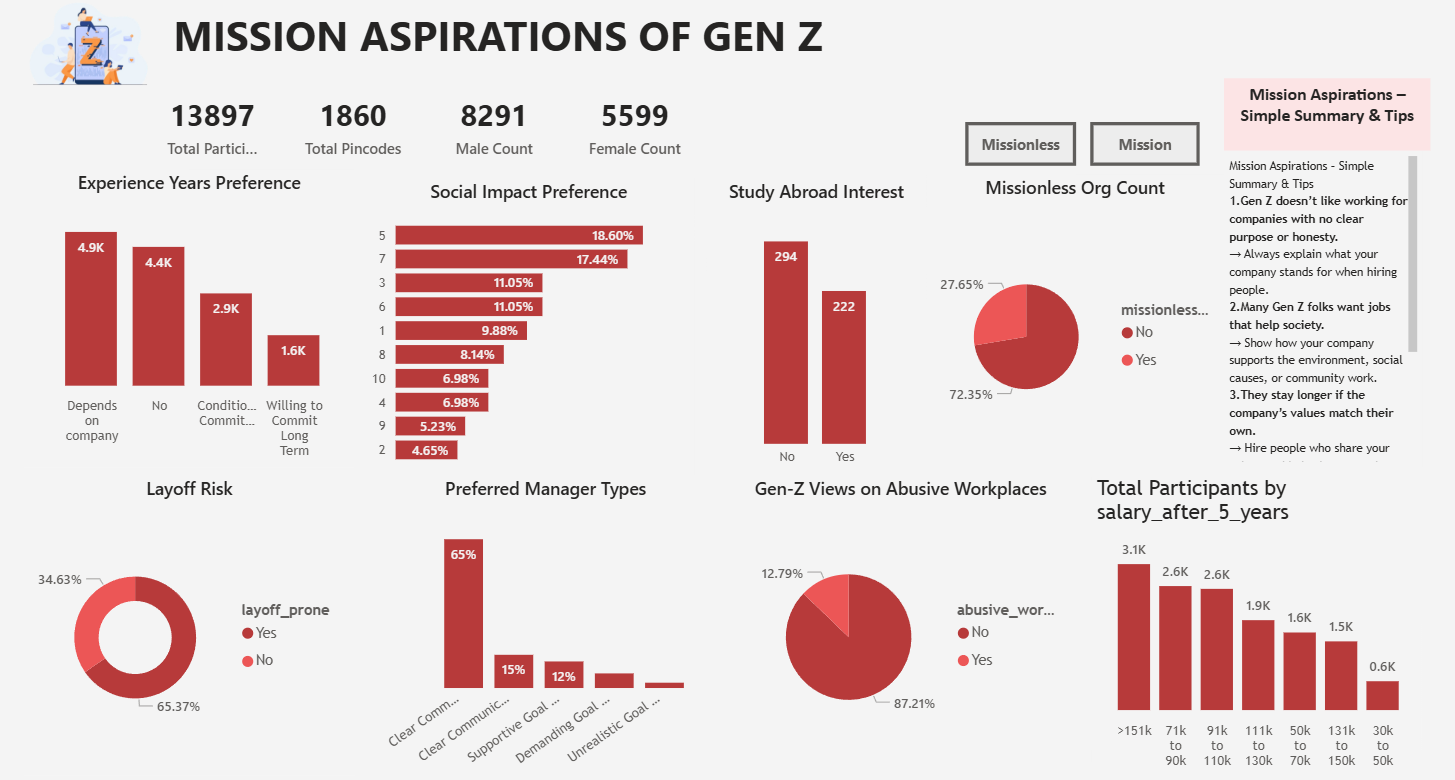

The dashboard page shown, as its layout file describes it:
{"tool":"powerbi","page":{"name":"MISSION ASPIRATIONS OF GEN Z","canvas":[1280,720],"ordinal":1},"visuals":[{"type":"columnChart","title":"Experience Years Preference","fields":{"Category":["genz_data survey_responses.experience_years"],"Y":["Measures (2).Total Participants"]},"box":[4.9,165.1,299.6,270.2],"z":0},{"type":"barChart","title":"Social Impact Preference","fields":{"Y":["cleaned_genz_data.Total Participants"],"Category":["genz_data survey_responses.no_social_impact_org"]},"box":[311.8,173.6,300.8,269],"z":1000},{"type":"clusteredColumnChart","title":"Study Abroad Interest","fields":{"Y":["cleaned_genz_data.Total Participants"],"Category":["genz_data survey_responses.study_abroad"]},"box":[623.6,173.6,199.3,269],"z":2000},{"type":"donutChart","title":"Layoff Risk","fields":{"Y":["cleaned_genz_data.Total Participants"],"Category":["genz_data survey_responses.layoff_prone"]},"box":[5.1,443.4,300,272.1],"z":3000},{"type":"clusteredColumnChart","title":"Preferred Manager Types","fields":{"Category":["genz_data survey_responses.manager_type"],"Y":["cleaned_genz_data.Total Participants"]},"box":[327.4,443.1,300,272.7],"z":4000},{"type":"pieChart","title":"Gen-Z Views on Abusive Workplaces","fields":{"Category":["genz_data survey_responses.abusive_workplace"],"Y":["Divide(cleaned_genz_data.Total Participants, ScopedEval(cleaned_genz_data.Total Participants, []))"]},"box":[649.8,443.7,300,271.5],"z":5000},{"type":"columnChart","fields":{"Category":["genz_data survey_responses.salary_after_5_years"],"Y":["cleaned_genz_data.Total Participants"]},"box":[972.2,443.1,299.6,272.7],"z":6000},{"type":"card","fields":{"Values":["cleaned_genz_data.Total Participants"]},"box":[126.1,85.6,99.3,79.4],"z":7000},{"type":"card","fields":{"Values":["cleaned_genz_data.Total Picodes"]},"box":[252.7,85.6,100.5,79.4],"z":8000},{"type":"card","fields":{"Values":["cleaned_genz_data.Male Count"]},"box":[380.6,85.6,100.5,79.4],"z":9000},{"type":"card","fields":{"Values":["cleaned_genz_data.Female Count"]},"box":[508.4,85.6,99.3,79.4],"z":10000},{"type":"textbox","box":[134.5,13.5,688.5,69.7],"z":11000},{"type":"image","box":[0,0,135.1,99.4],"z":12000},{"type":"pieChart","title":"Missionless Org Count","fields":{"Category":["genz_data survey_responses.missionless_org"],"Y":["cleaned_genz_data.Total Participants"]},"box":[823,170.1,269.4,273.1],"z":13000},{"type":"actionButton","title":"Missionless button","box":[857.7,122.9,100.5,39.7],"z":15000},{"type":"actionButton","title":"mission button","box":[971.9,122.9,99.3,39.7],"z":16000},{"type":"textbox","box":[1092.3,149,180,286.7],"z":17000},{"type":"textbox","box":[1092.3,83.2,187.4,65.8],"z":18000}]}

Visuals, with their boxes on the page's 1280x720 design canvas (x1, y1, x2, y2). These are canvas units, not pixel positions in the 1455x780 screenshot, which may show the page scaled, cropped or inside an application window:
"Experience Years Preference" columnChart: 5:165:304:435
"Social Impact Preference" barChart: 312:174:613:443
"Study Abroad Interest" clusteredColumnChart: 624:174:823:443
"Layoff Risk" donutChart: 5:443:305:716
"Preferred Manager Types" clusteredColumnChart: 327:443:627:716
"Gen-Z Views on Abusive Workplaces" pieChart: 650:444:950:715
columnChart - genz_data survey_responses.salary_after_5_years x cleaned_genz_data.Total Participants: 972:443:1272:716
card - cleaned_genz_data.Total Participants: 126:86:225:165
card - cleaned_genz_data.Total Picodes: 253:86:353:165
card - cleaned_genz_data.Male Count: 381:86:481:165
card - cleaned_genz_data.Female Count: 508:86:608:165
textbox: 134:14:823:83
image: 0:0:135:99
"Missionless Org Count" pieChart: 823:170:1092:443
"Missionless button" actionButton: 858:123:958:163
"mission button" actionButton: 972:123:1071:163
textbox: 1092:149:1272:436
textbox: 1092:83:1280:149
